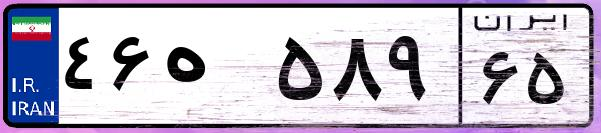4: (57, 26, 110, 100)
5: (270, 28, 330, 110), (525, 38, 570, 115)
6: (475, 38, 525, 113), (110, 28, 158, 98)
8: (330, 28, 385, 110)
9: (385, 28, 445, 110)
ه: (158, 20, 270, 120)
